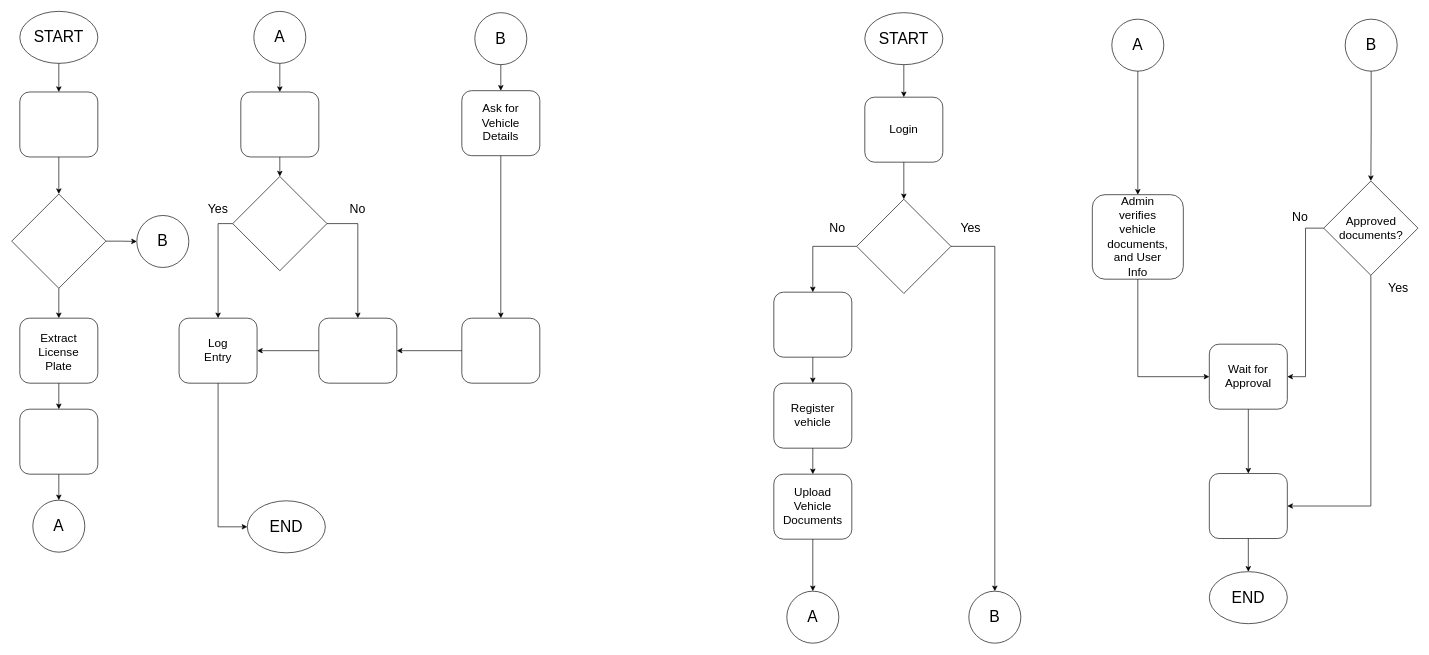
Image size: 1429x655. Some labels were removed from this diagram. The box of each missing label's shape, as (x1, y1, x2, y2) in pixels:
Capture Frame: (19, 91, 98, 157)
Check Database: (240, 91, 319, 157)
Claim gatepass at UBAP office: (1209, 473, 1287, 539)
Collect User Info: (773, 292, 852, 357)
Flag Vehicle: (318, 318, 397, 383)
Has License plate?: (11, 193, 106, 288)
Has Registration?: (856, 199, 951, 293)
Is Registered?: (232, 176, 327, 271)
Manual Encode to system: (461, 318, 540, 383)
Recognize Characters: (19, 409, 98, 474)
